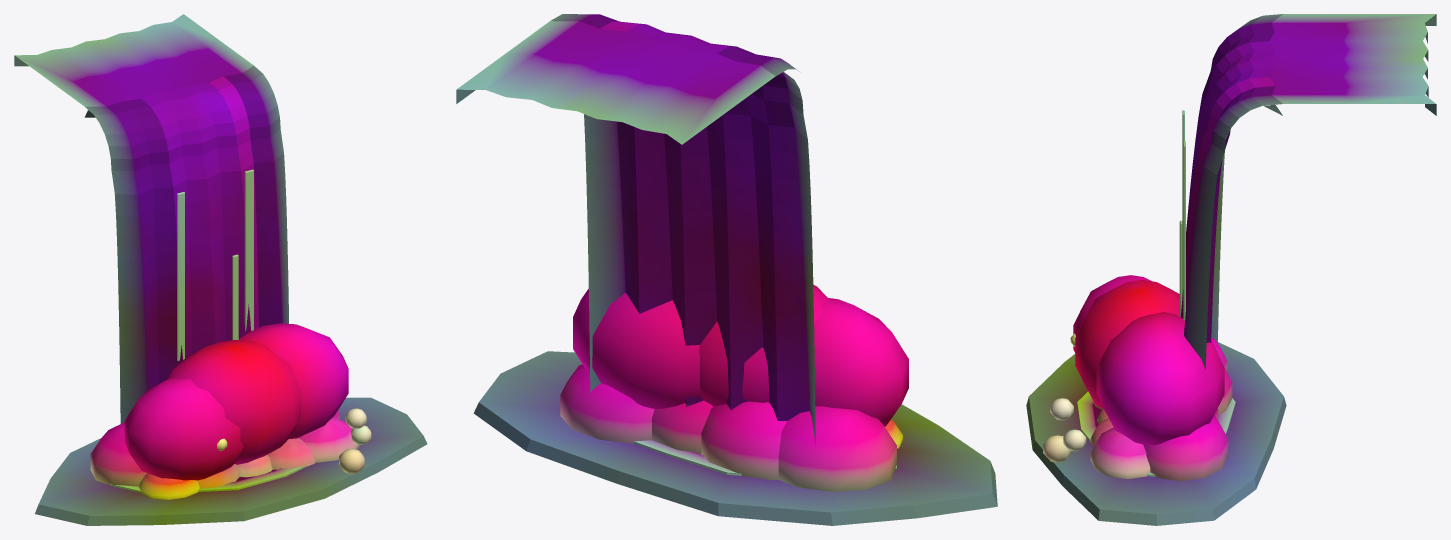
Rendered from Waterfall_Medium.glb.
The picture shows the model from 3 angles, left to right: view 1: azimuth 30°, elevation 25°; view 2: azimuth 150°, elevation 25°; view 3: azimuth 270°, elevation 25°; orthographic projection. The views are drawn at different scales.
Parts seen in each view (by area): view 1: Waterfall_Medium; view 2: Waterfall_Medium; view 3: Waterfall_Medium.
Boxes of the visible parts, x1,y1,x2,y2 form: Waterfall_Medium: (14, 14, 427, 525); Waterfall_Medium: (456, 14, 997, 525); Waterfall_Medium: (1026, 14, 1436, 525).
Size of the model in its own units: 3.56 by 3.06 by 3.08.
